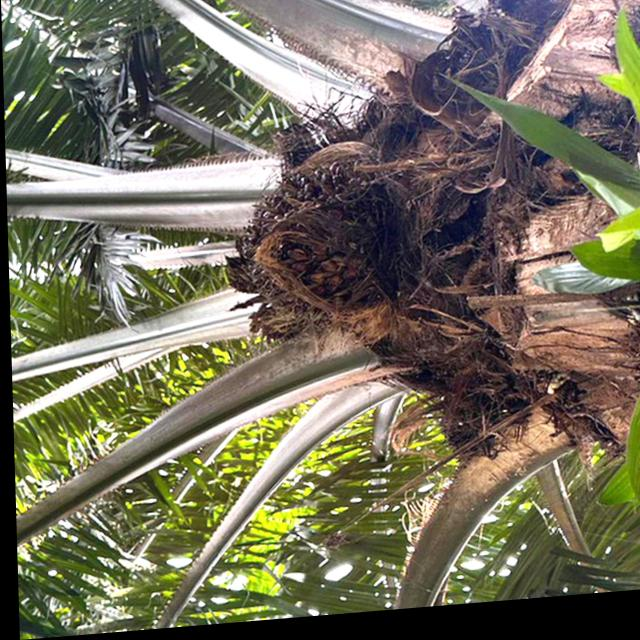ripe: (221, 171, 393, 363)
